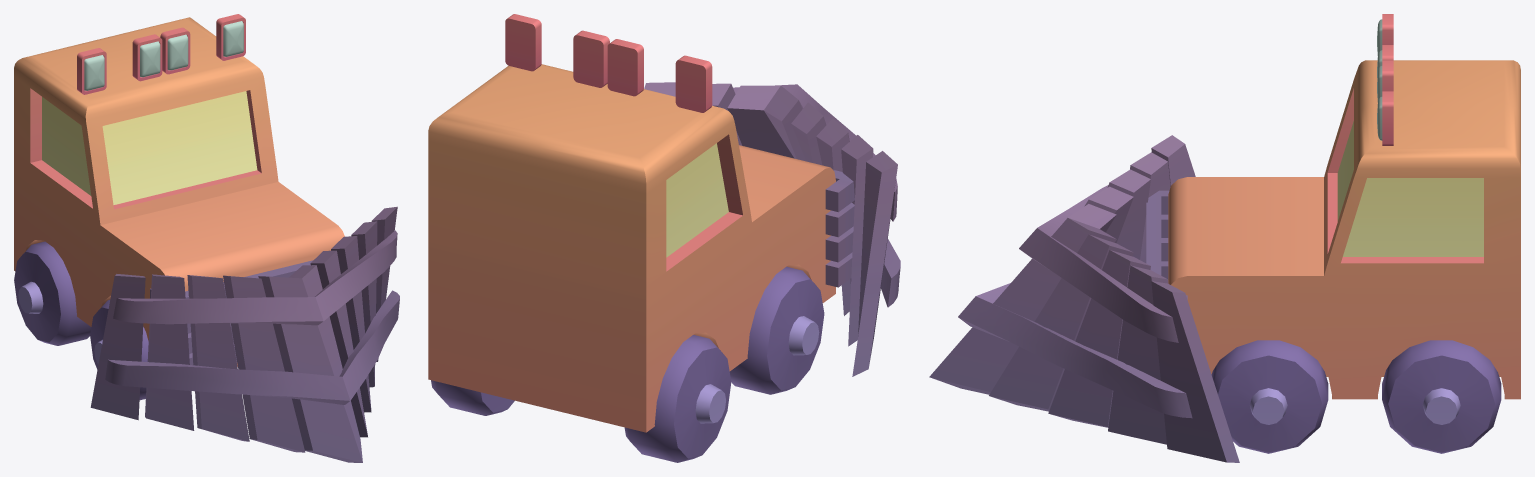
The model's file is train_Body_GEO.fbx.
3 views of the same model, side by side, from view 1: azimuth 30°, elevation 25°; view 2: azimuth 150°, elevation 25°; view 3: azimuth 270°, elevation 25° (orthographic). The views are drawn at different scales.
Parts seen in each view (by area): view 1: train_Body_GEO; view 2: train_Body_GEO; view 3: train_Body_GEO.
Boxes of the visible parts, x1,y1,x2,y2 form: train_Body_GEO: [14, 14, 399, 462]; train_Body_GEO: [428, 14, 900, 462]; train_Body_GEO: [929, 14, 1520, 462].
Bounding box in the file's own units: 486 × 492 × 767.
